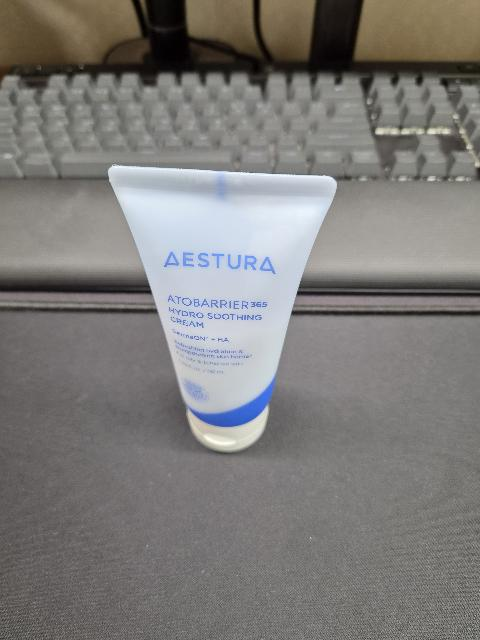handcream: (108, 164, 337, 451)
